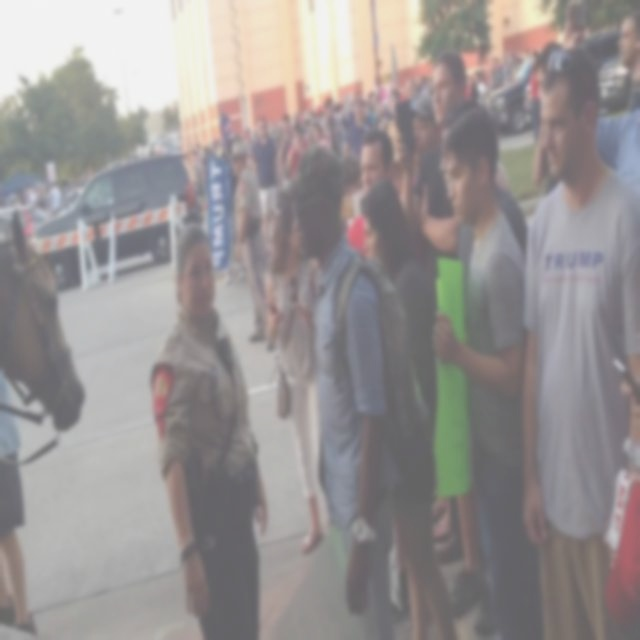pessoa: (274, 142, 430, 639), (514, 40, 640, 639), (426, 100, 550, 640), (147, 220, 275, 640), (354, 170, 466, 640), (434, 100, 531, 636), (265, 202, 324, 554), (560, 0, 640, 201), (226, 138, 280, 356), (0, 368, 41, 639), (602, 353, 640, 639), (426, 48, 468, 216), (350, 127, 398, 260), (533, 40, 566, 199), (184, 123, 233, 224), (1, 169, 78, 226), (466, 45, 530, 104), (92, 136, 184, 174), (254, 117, 278, 256), (409, 96, 441, 187), (614, 10, 640, 119), (286, 118, 310, 234), (342, 96, 374, 158), (318, 96, 342, 158), (222, 227, 246, 289), (296, 98, 326, 144), (267, 108, 293, 160), (362, 84, 390, 132), (528, 48, 541, 150), (333, 88, 355, 134), (414, 67, 434, 116), (234, 114, 258, 154), (380, 89, 399, 132), (404, 75, 420, 108), (312, 121, 324, 148)
